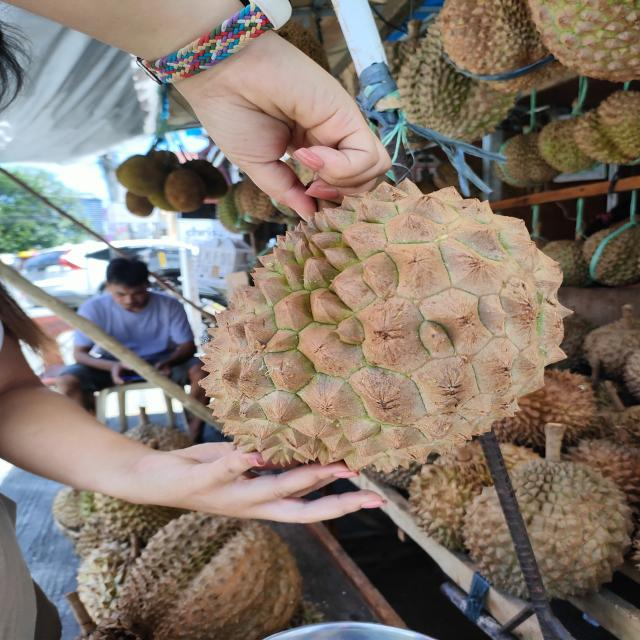mature: (192, 176, 576, 471)
